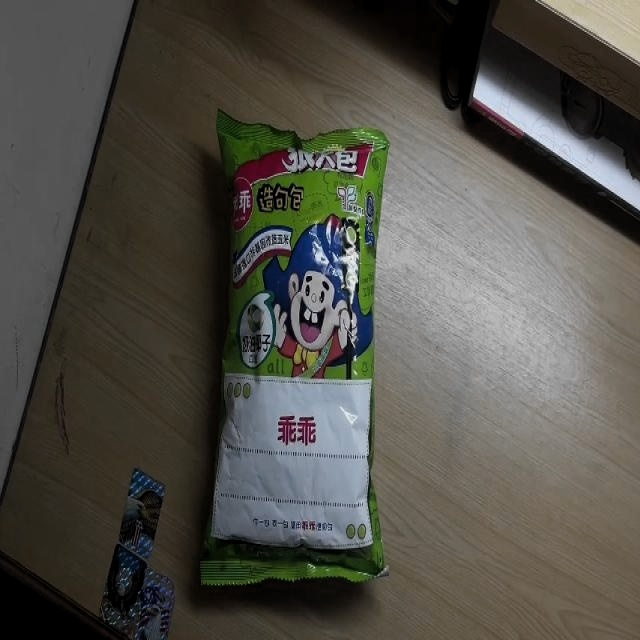Good-Luck: (202, 111, 388, 584)
